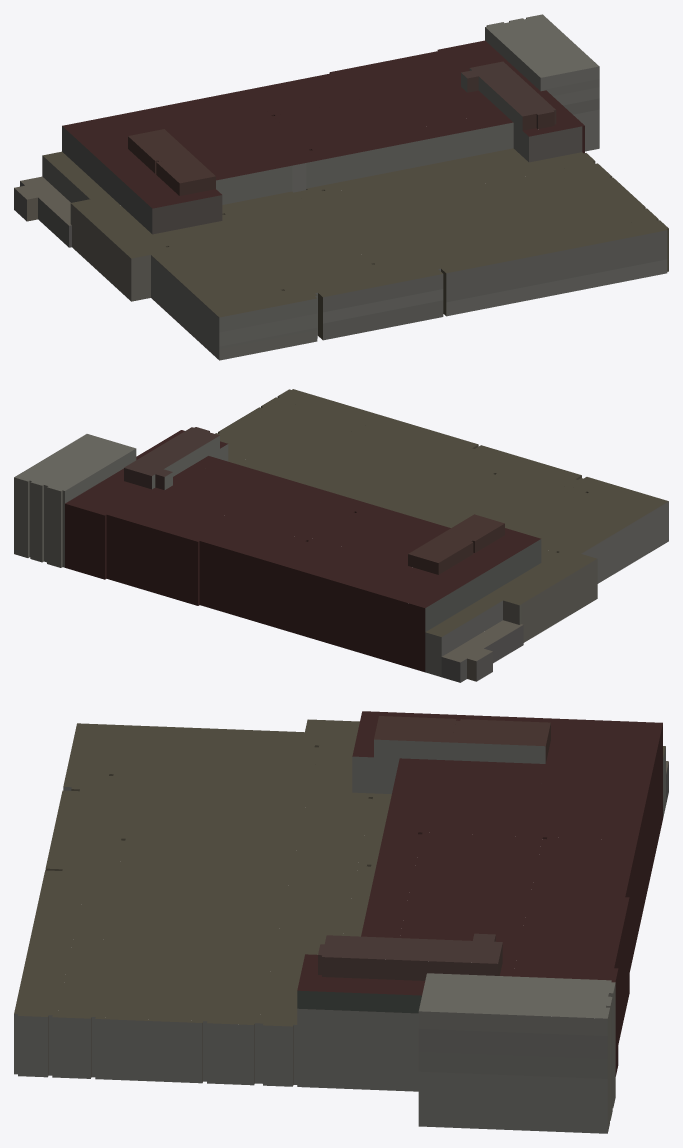
Rendered from t_2_1.far.glb.
3 renders of one model, top to bottom at view 1: azimuth 30°, elevation 25°; view 2: azimuth 150°, elevation 25°; view 3: azimuth 270°, elevation 25°, orthographic. The views are drawn at different scales.
Parts seen in each view (by area): view 1: opaque; view 2: opaque; view 3: opaque.
Part boxes in pixels (x1=…): opaque: x1=14, y1=14, x2=668, y2=360; opaque: x1=14, y1=389, x2=668, y2=682; opaque: x1=14, y1=711, x2=668, y2=1133.
Bounding box in the file's own units: 97.08 × 14.86 × 75.89.
Materials: 1 (1 with a texture image).
